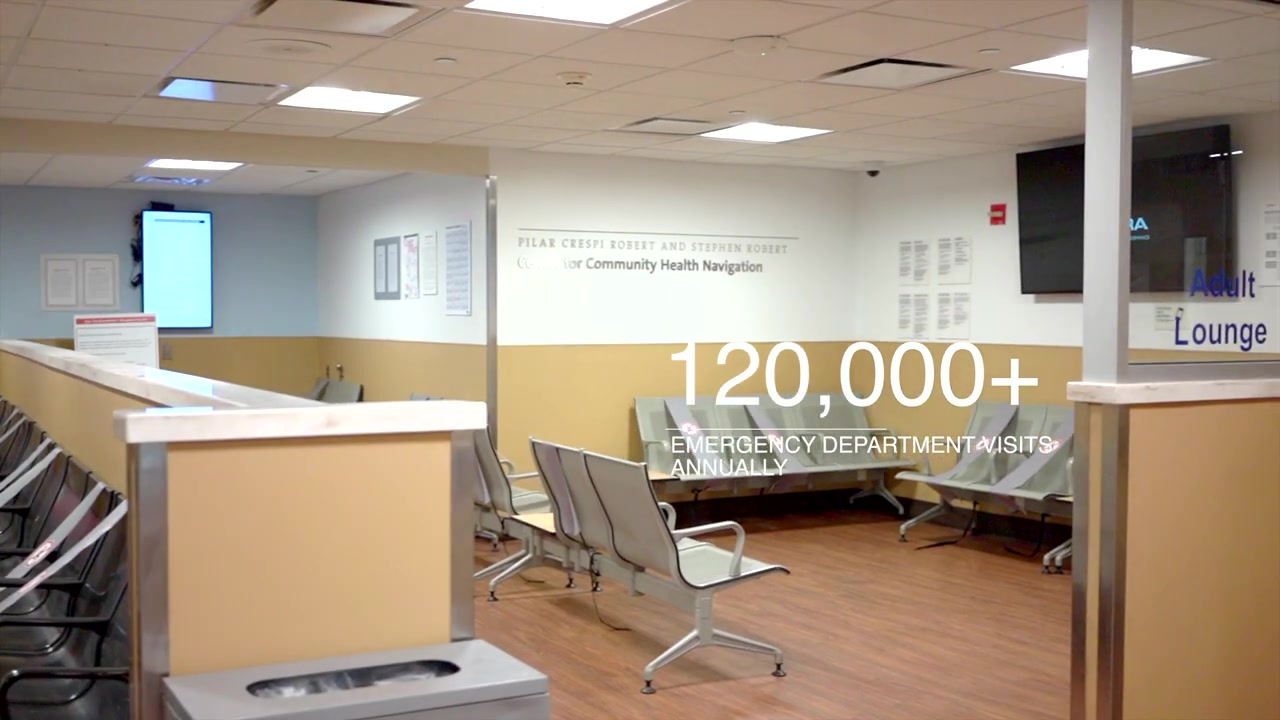TV: (1016, 125, 1235, 294), (144, 210, 213, 328)
chair: (527, 436, 790, 694), (408, 401, 577, 602), (637, 404, 921, 518), (891, 401, 1075, 575), (1, 491, 138, 720), (1, 472, 118, 653), (1, 461, 94, 609)
countertop: (7, 332, 492, 446)
waste_bin: (161, 639, 551, 720)
